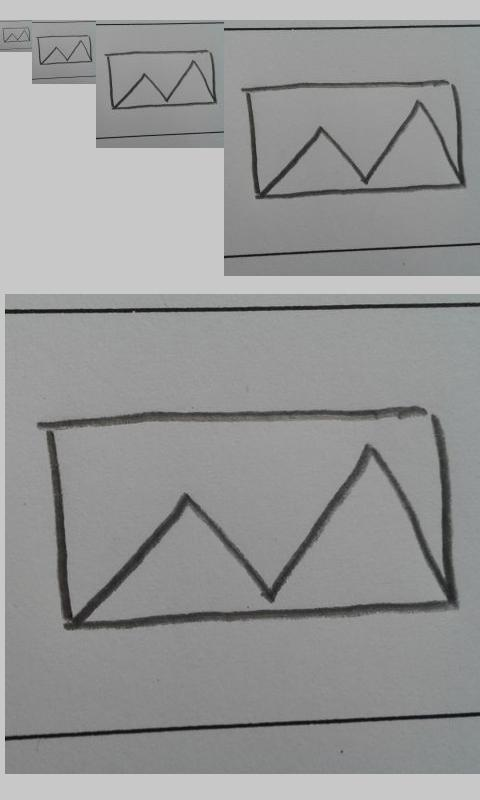image_view: (45, 408, 454, 629), (246, 80, 464, 202), (105, 50, 217, 109), (37, 35, 93, 65), (2, 27, 31, 43)
